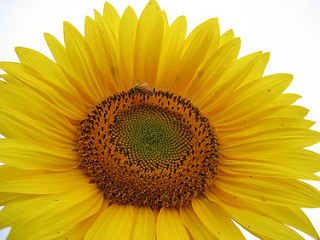flower: (0, 1, 320, 240)
